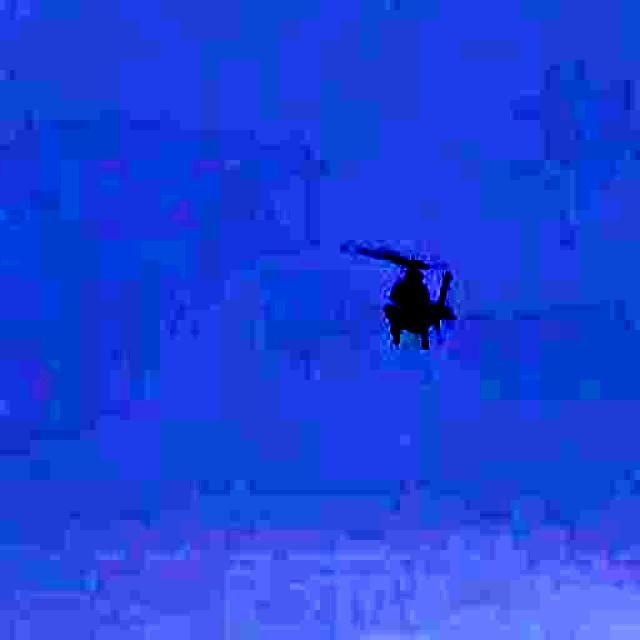drone: (321, 220, 499, 374)
